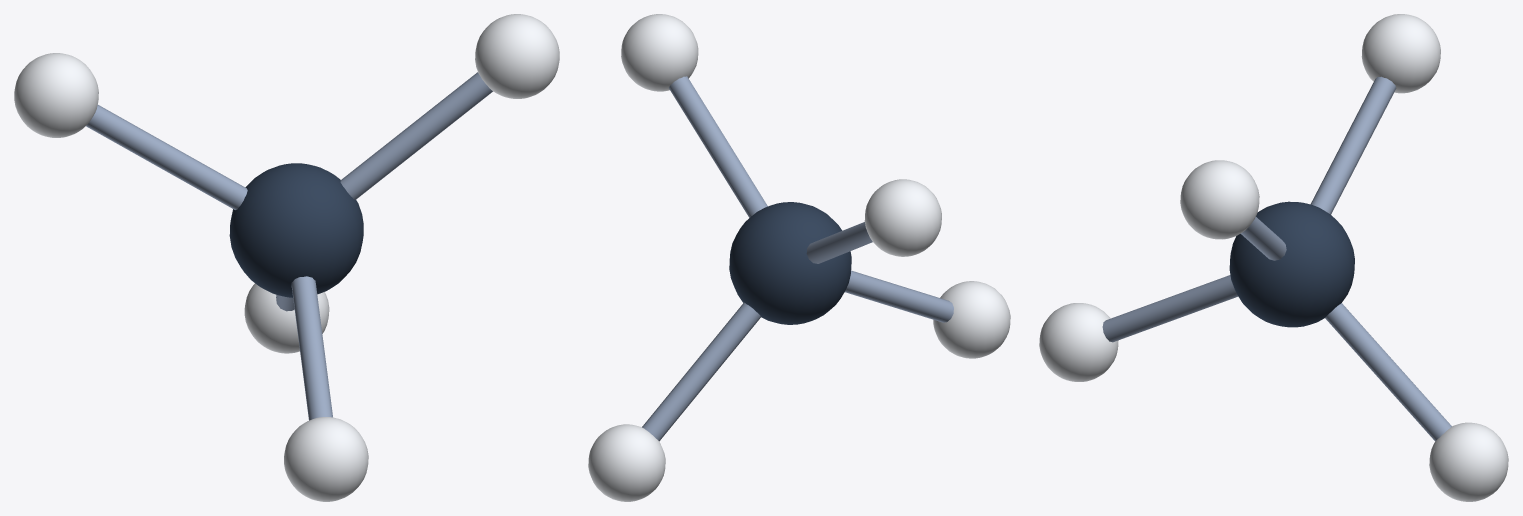
The model's file is alkanes-desktop.glb.
3 views of the same model, side by side, from view 1: azimuth 30°, elevation 25°; view 2: azimuth 150°, elevation 25°; view 3: azimuth 270°, elevation 25° (orthographic). The views are drawn at different scales.
Visible parts, largest first — view 1: Carbon C1, Hydrogen C1 right, Hydrogen C1 lower, Hydrogen C1 upper, Single C–H attachment h0, Single C–H attachment h3, Single C–H attachment h1, Hydrogen C1 left; view 2: Carbon C1, Hydrogen C1 right, Hydrogen C1 left, Hydrogen C1 upper, Hydrogen C1 lower, Single C–H attachment h2, Single C–H attachment h0, Single C–H attachment h1, Single C–H attachment h3; view 3: Carbon C1, Hydrogen C1 upper, Hydrogen C1 left, Hydrogen C1 right, Hydrogen C1 lower, Single C–H attachment h2, Single C–H attachment h3, Single C–H attachment h1, Single C–H attachment h0.
Part boxes in pixels (bbox=[...]): Carbon C1: bbox=[229, 163, 363, 297]; Hydrogen C1 right: bbox=[14, 53, 98, 137]; Hydrogen C1 lower: bbox=[284, 417, 368, 501]; Hydrogen C1 upper: bbox=[475, 14, 559, 98]; Single C–H attachment h0: bbox=[340, 72, 492, 199]; Single C–H attachment h3: bbox=[86, 105, 247, 209]; Single C–H attachment h1: bbox=[291, 276, 332, 420]; Hydrogen C1 left: bbox=[244, 283, 329, 353]; Carbon C1: bbox=[729, 202, 851, 324]; Hydrogen C1 right: bbox=[864, 179, 941, 256]; Hydrogen C1 left: bbox=[588, 424, 665, 501]; Hydrogen C1 upper: bbox=[621, 14, 698, 91]; Hydrogen C1 lower: bbox=[933, 281, 1010, 358]; Single C–H attachment h2: bbox=[642, 302, 760, 441]; Single C–H attachment h0: bbox=[669, 76, 767, 217]; Single C–H attachment h1: bbox=[845, 270, 953, 322]; Single C–H attachment h3: bbox=[806, 222, 872, 263]; Carbon C1: bbox=[1229, 201, 1354, 327]; Hydrogen C1 upper: bbox=[1180, 160, 1259, 239]; Hydrogen C1 left: bbox=[1429, 422, 1508, 501]; Hydrogen C1 right: bbox=[1361, 14, 1440, 93]; Hydrogen C1 lower: bbox=[1039, 303, 1118, 381]; Single C–H attachment h2: bbox=[1325, 303, 1451, 441]; Single C–H attachment h3: bbox=[1310, 76, 1396, 214]; Single C–H attachment h1: bbox=[1102, 275, 1238, 342]; Single C–H attachment h0: bbox=[1240, 217, 1286, 260].
Size of the model in its own units: 1.42 by 1.26 by 1.41.
